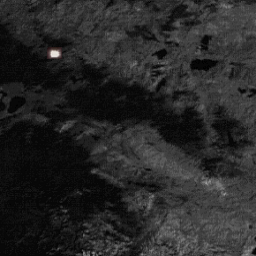Target: (48, 47, 60, 59)
